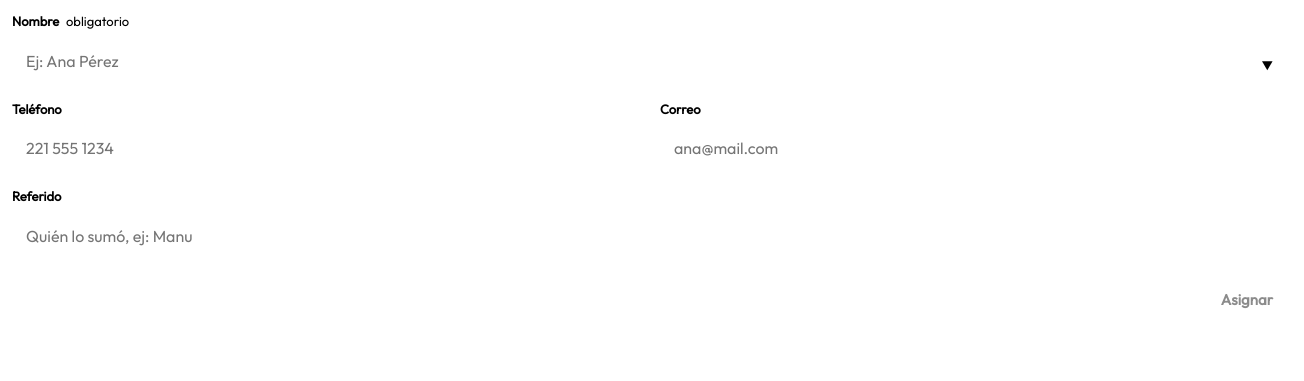
Test: PersonForm › limita largos, avisa coincidencias y evita doble envío
Check: the button "Asignar" is disabled, box [1202,278,1292,322]
Type "ana perez" into the field with placeholder "Ej: Ana Pérez".
click(652, 60); type("ana perez")  # box [12,38,1292,84]
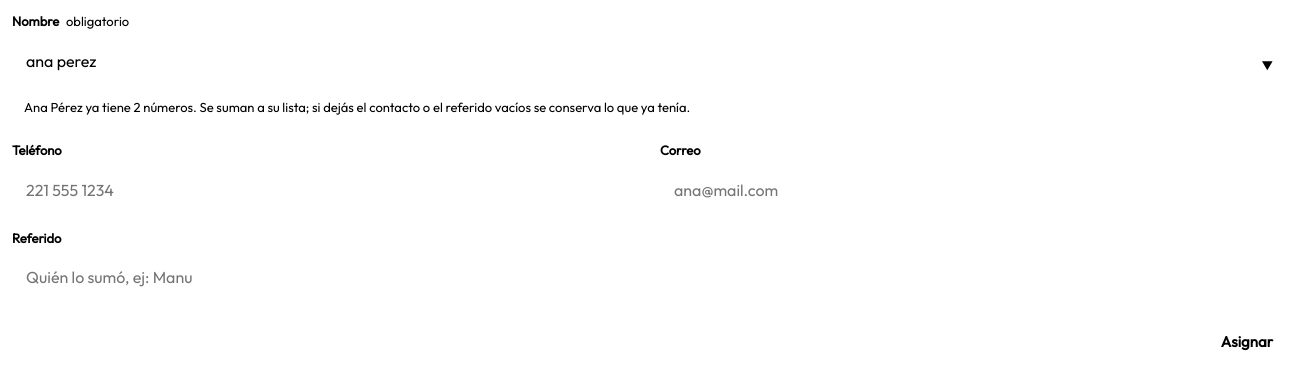
Check: the text "ya tiene 2 números" is shown, box [24,98,690,114]
Click the button "Asignar".
click(1247, 342)  # box [1202,320,1292,364]
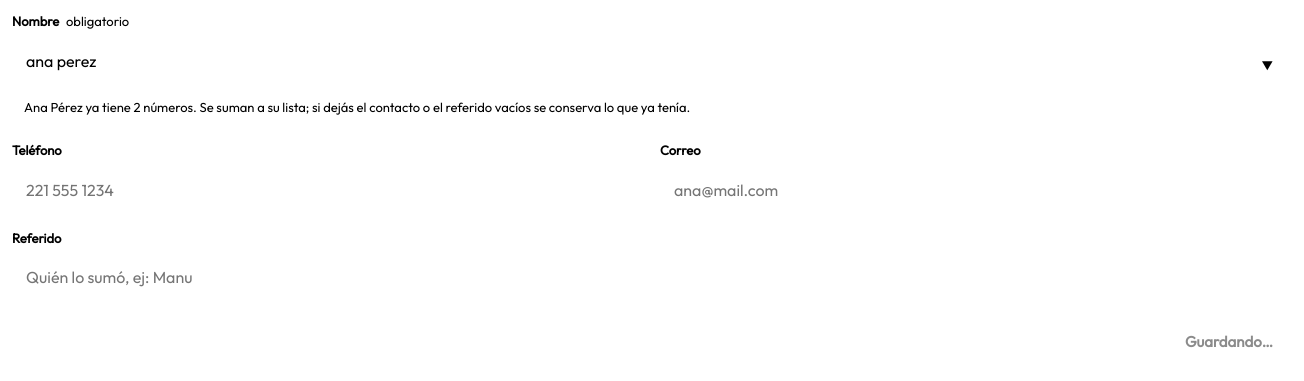
Check: the button "Guardando…" is disabled
Click the button "Guardando…".
click(1229, 342)  # box [1166,320,1292,364]
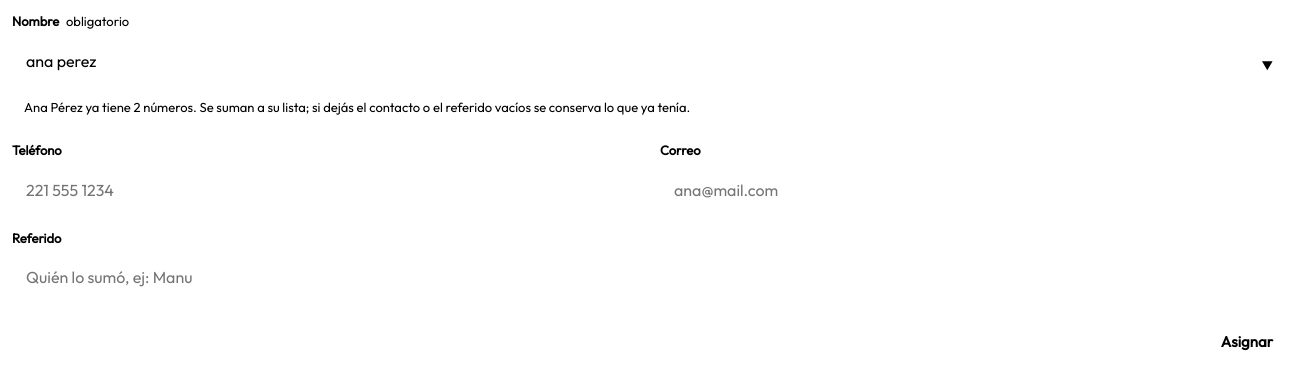
Check: the button "Asignar" is enabled, box [1202,320,1292,364]
